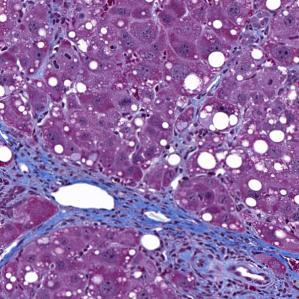fibrosis: (125, 179, 280, 292), (9, 143, 116, 196)
